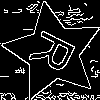R: (28, 27, 86, 81)
